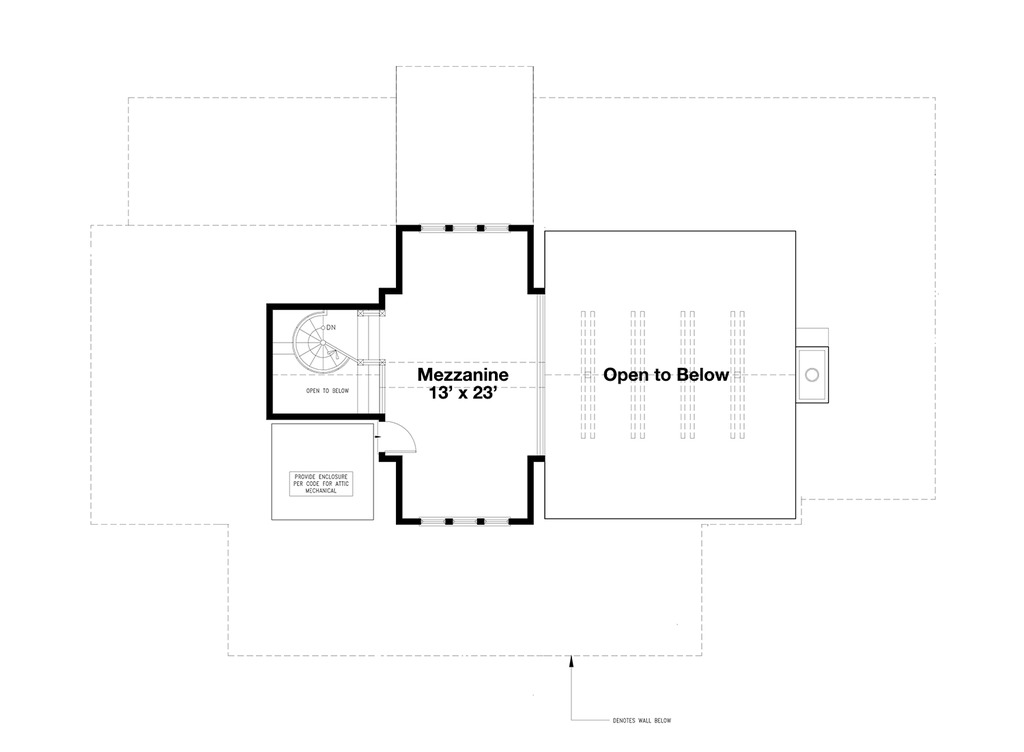door: (375, 420, 418, 456)
stairs: (288, 309, 354, 374)
windows: (412, 512, 507, 529), (417, 222, 518, 232)
